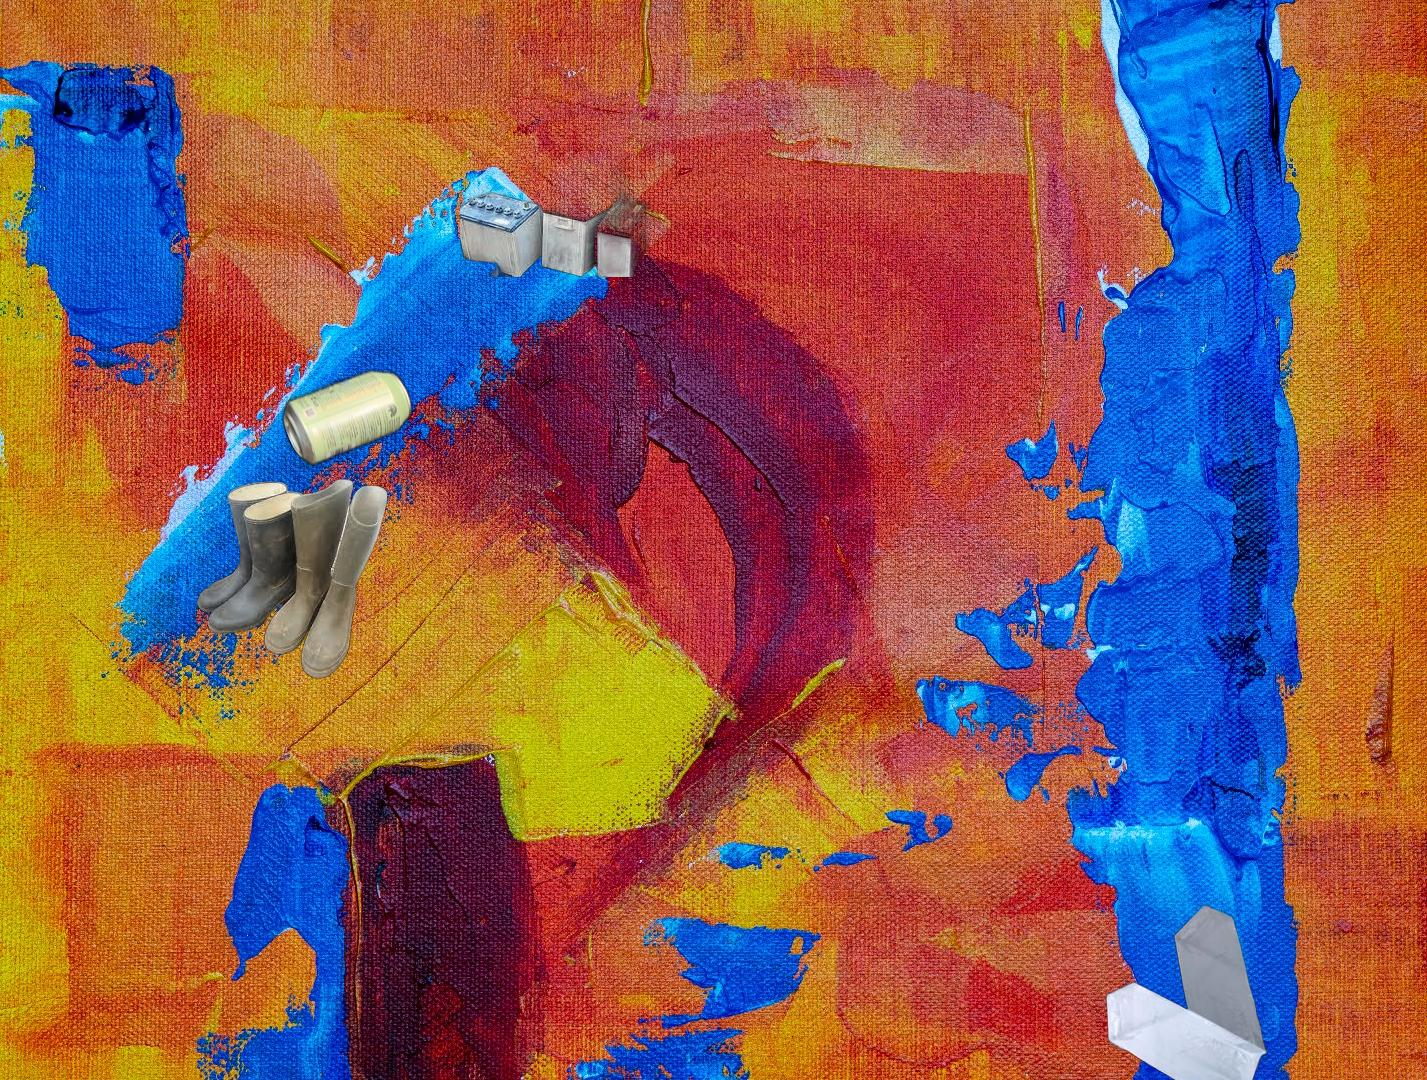battery: (461, 134, 733, 277)
metal-cans: (278, 364, 416, 472)
plastic-bag: (1101, 902, 1270, 1080)
shoes: (193, 478, 387, 681), (448, 1078, 642, 1080)
